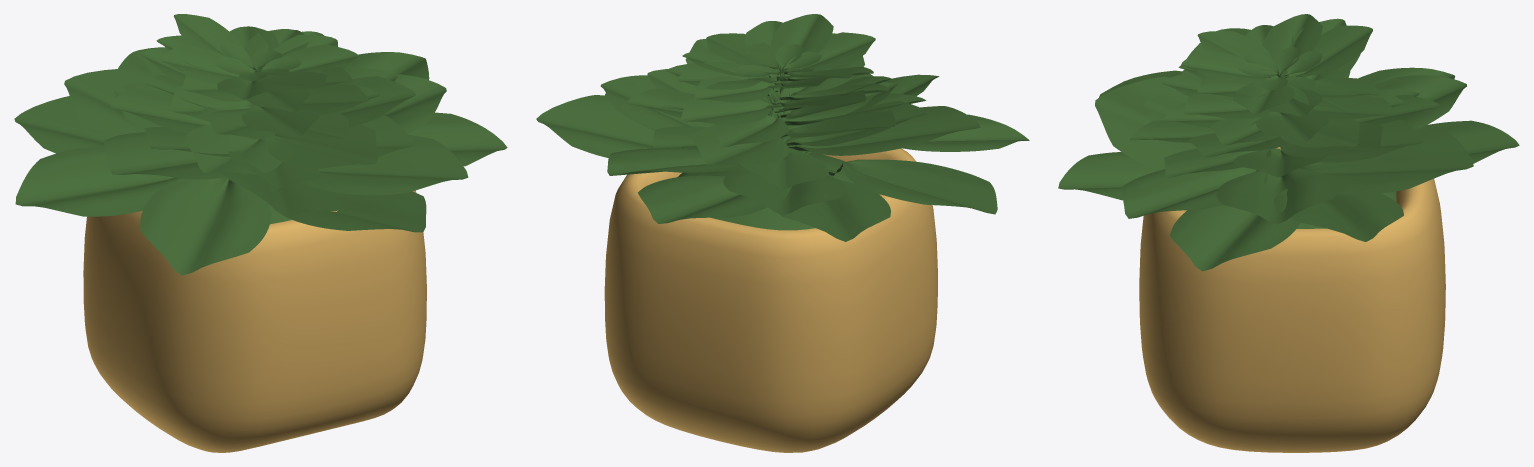
The model's file is plant and pot new material.fbx.
3 views of the same model, side by side, from view 1: azimuth 30°, elevation 25°; view 2: azimuth 150°, elevation 25°; view 3: azimuth 270°, elevation 25° (orthographic). The views are drawn at different scales.
Visible parts, largest first — view 1: pPlane4; view 2: pPlane4; view 3: pPlane4.
Boxes of the visible parts, x1,y1,x2,y2 form: pPlane4: [14, 14, 507, 452]; pPlane4: [536, 14, 1029, 452]; pPlane4: [1058, 14, 1519, 452].
Bounding box in the file's own units: 1.41 × 1.15 × 1.31.
